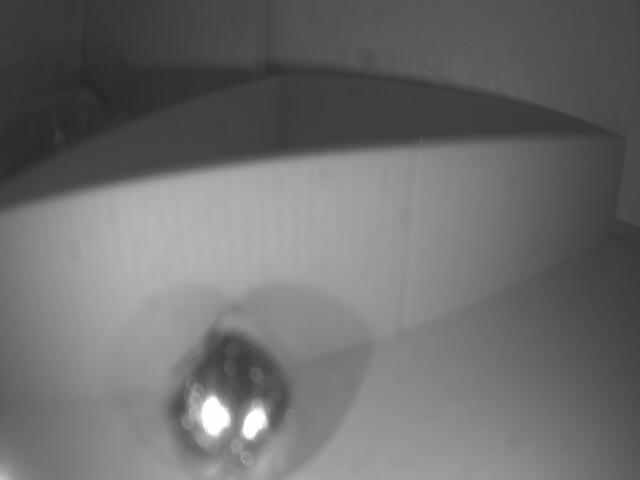Red: (1, 130, 624, 437)
